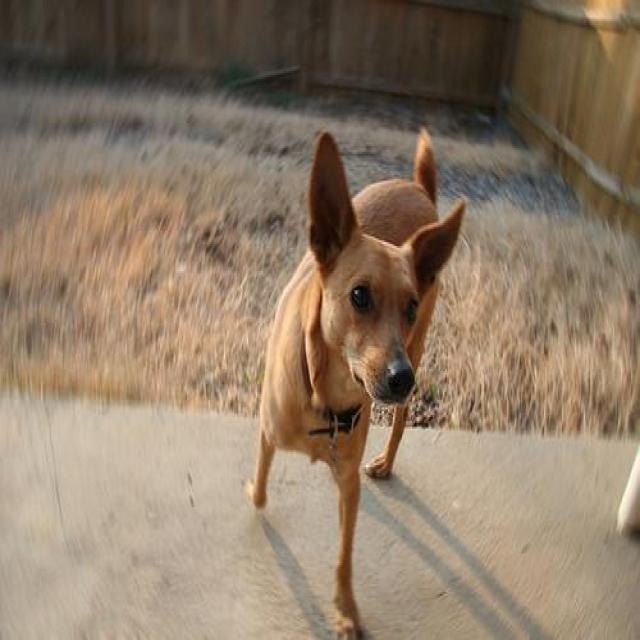toy_terrier: (243, 125, 474, 638)
